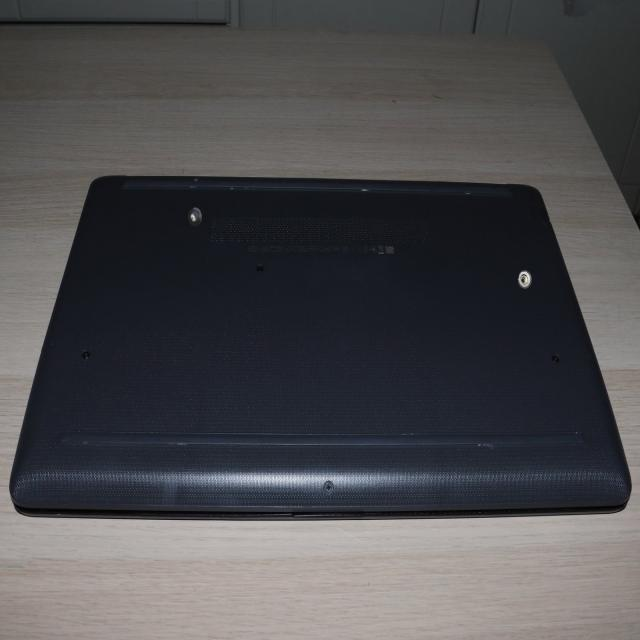missing_screw: (188, 207, 202, 226), (518, 270, 531, 288)
